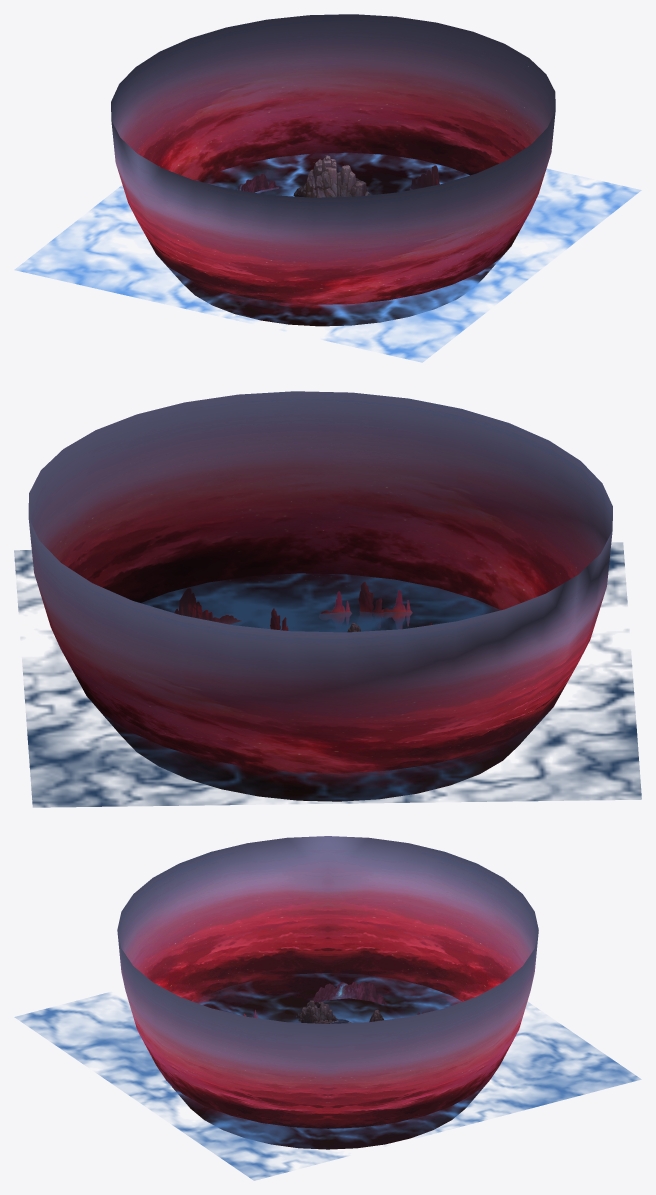
3 views of the same model, one above another, from view 1: azimuth 30°, elevation 25°; view 2: azimuth 150°, elevation 25°; view 3: azimuth 270°, elevation 25° (orthographic). The views are drawn at different scales.
Parts seen in each view (by area): view 1: Sky, Water, Rocks, Fondos; view 2: Sky, Water, Fondos; view 3: Sky, Water, Fondos, Rocks.
Part boxes in pixels (x1,y1,x2,y2): Sky: [111, 14, 555, 326]; Water: [15, 153, 641, 362]; Rocks: [293, 155, 370, 197]; Fondos: [235, 165, 439, 193]; Sky: [28, 391, 612, 801]; Water: [14, 542, 641, 807]; Fondos: [174, 582, 431, 630]; Sky: [117, 836, 538, 1149]; Water: [14, 973, 641, 1180]; Fondos: [243, 982, 423, 1018]; Rocks: [295, 1000, 383, 1023].
Bounding box in the file's own units: 354 × 108 × 354.
Materials: 16 (16 with a texture image).
